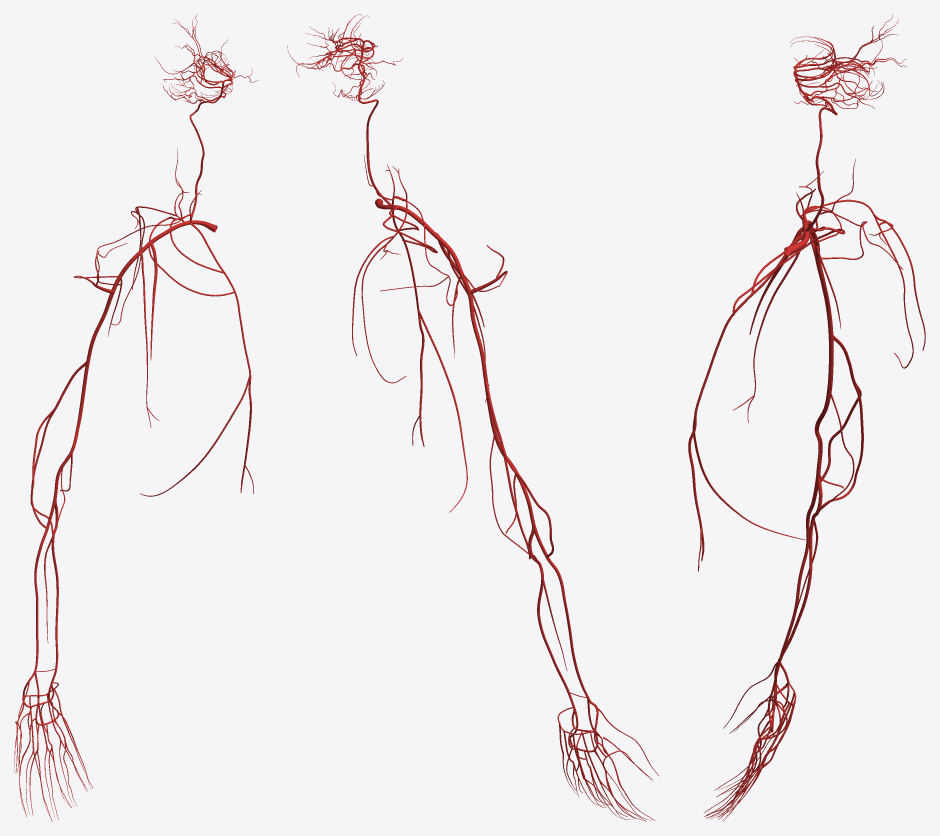
The model's file is circulatorio-right-subclavian-artery.glb.
3 views of the same model, side by side, from view 1: azimuth 30°, elevation 25°; view 2: azimuth 150°, elevation 25°; view 3: azimuth 270°, elevation 25° (orthographic). The views are drawn at different scales.
Parts seen in each view (by area): view 1: Proper palmar digital arteries.r, Brachial artery.r, Dorsal digital arteries of hand.r, Radial artery.r, Ulnar artery.r; view 2: Brachial artery.r, Proper palmar digital arteries.r, Radial artery.r; view 3: Brachial artery.r, Proper palmar digital arteries.r, Ulnar artery.r, Radial artery.r, (Deep branch of transverse cervical artery).r, Internal thoracic artery.r, Dorsal digital arteries of hand.r, Posterior cerebral artery.l, Vertebral artery.r, Superior epigastric artery.r, Dorsal metacarpal arteries.r, Lateral thoracic artery.r (+1 smaller).
Part boxes in pixels (x1,y1,x2,y2): Proper palmar digital arteries.r: (15,681,92,821); Brachial artery.r: (54,277,121,495); Dorsal digital arteries of hand.r: (14,721,90,817); Radial artery.r: (22,495,56,696); Ulnar artery.r: (51,496,58,682); Brachial artery.r: (460,275,534,523); Proper palmar digital arteries.r: (566,708,659,820); Radial artery.r: (533,523,598,730); Brachial artery.r: (814,244,833,471); Proper palmar digital arteries.r: (703,662,777,819); Ulnar artery.r: (774,472,822,683); Radial artery.r: (778,471,818,682); (Deep branch of transverse cervical artery).r: (807,199,913,368); Internal thoracic artery.r: (695,232,803,411); Dorsal digital arteries of hand.r: (707,699,784,821); Posterior cerebral artery.l: (790,40,877,104); Vertebral artery.r: (805,96,837,231); Superior epigastric artery.r: (688,411,704,571); Dorsal metacarpal arteries.r: (765,684,795,757); Lateral thoracic artery.r: (732,238,803,422).
Size of the model in its own units: 0.3875 by 0.9488 by 0.2209.
